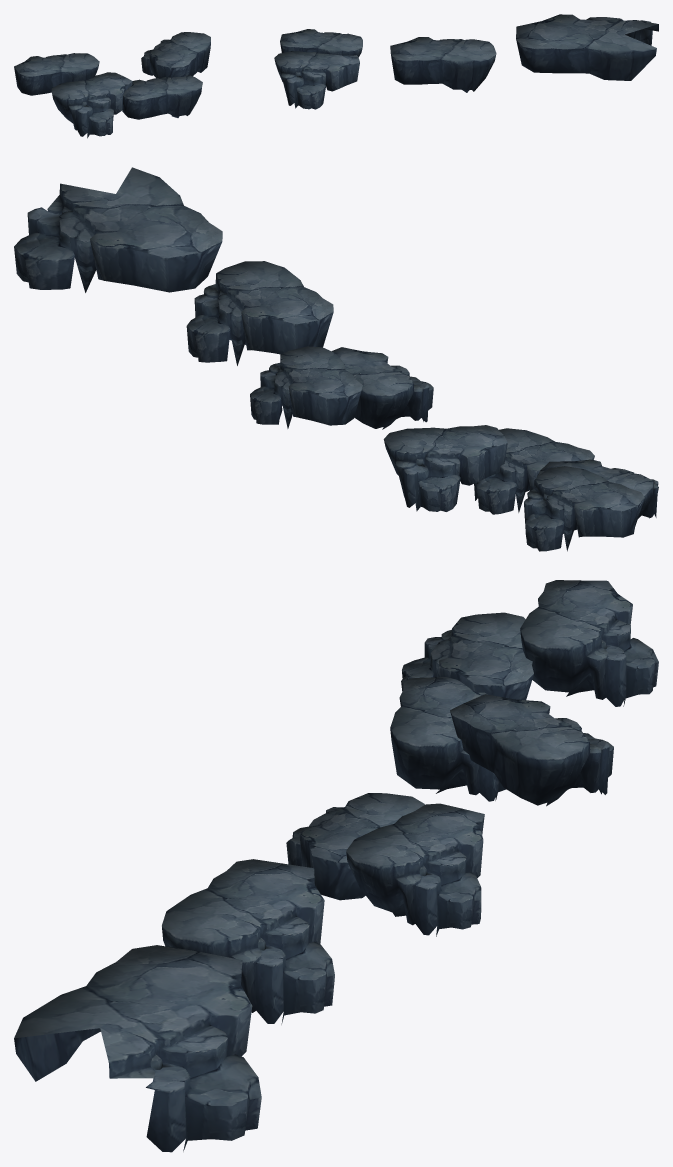
File: Area_13_5.fbx
3 views of the same model, one above another, from view 1: azimuth 30°, elevation 25°; view 2: azimuth 150°, elevation 25°; view 3: azimuth 270°, elevation 25° (orthographic). The views are drawn at different scales.
Parts seen in each view (by area): view 1: Area_13_5; view 2: Area_13_5; view 3: Area_13_5.
Boxes of the visible parts, x1=… form: Area_13_5: x1=14, y1=14, x2=658, y2=138; Area_13_5: x1=14, y1=167, x2=658, y2=551; Area_13_5: x1=14, y1=580, x2=658, y2=1152.
Bounding box in the file's own units: 9687 × 1022 × 5196.
